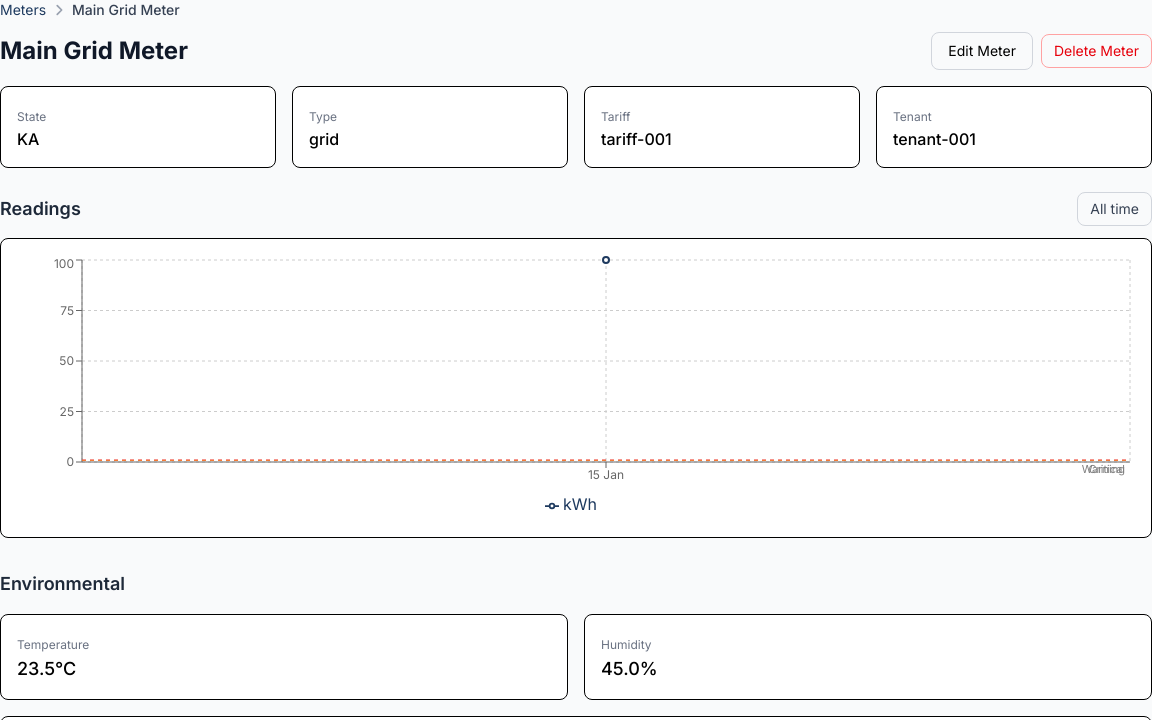
it: MeterDetail page › shows Delete Meter button for admin and opens confirm dialog
Expected: the heading "Main Grid Meter" is shown, [0,35,188,67]
What coordinates should you click on to do the following:
click the button "Delete Meter"
I would click on:
 (1096, 51)
Its box is [1041,34,1151,68].
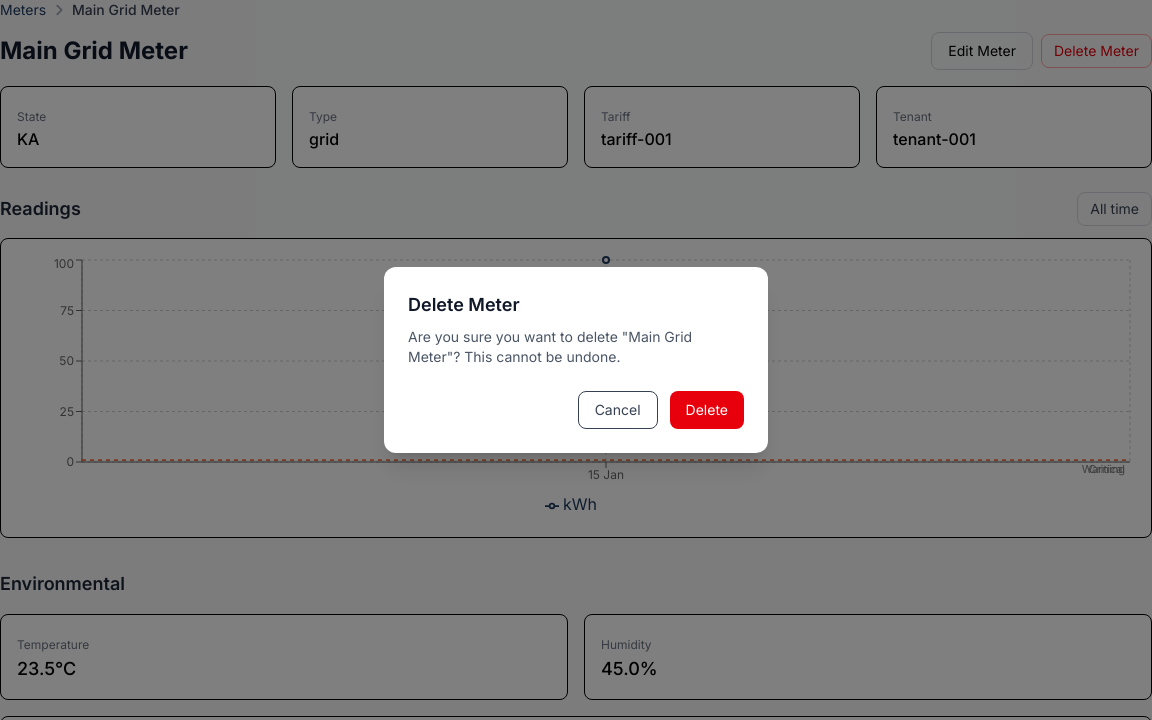
Now the dialog is shown
Now the text "Are you sure you want to delete" is shown, box [408,328,692,365]
